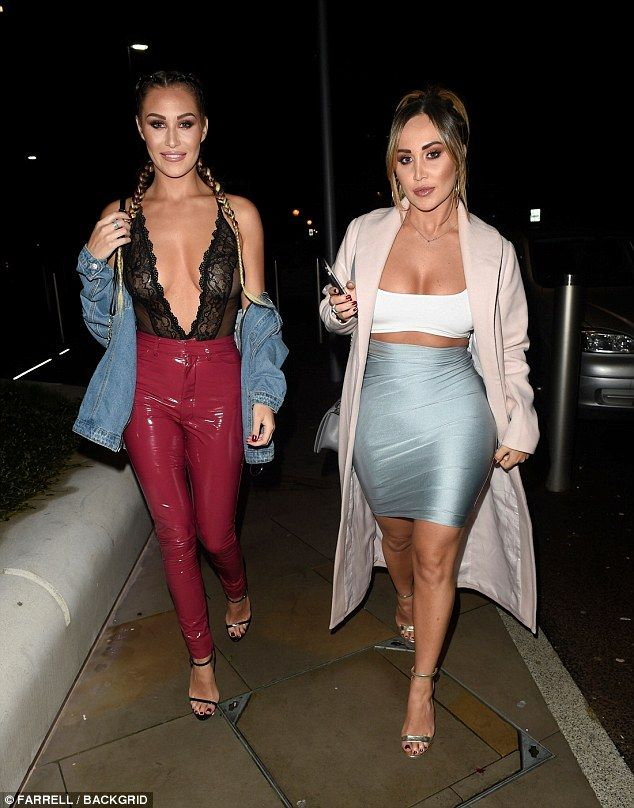Person: (298, 73, 551, 755), (69, 72, 293, 727)
